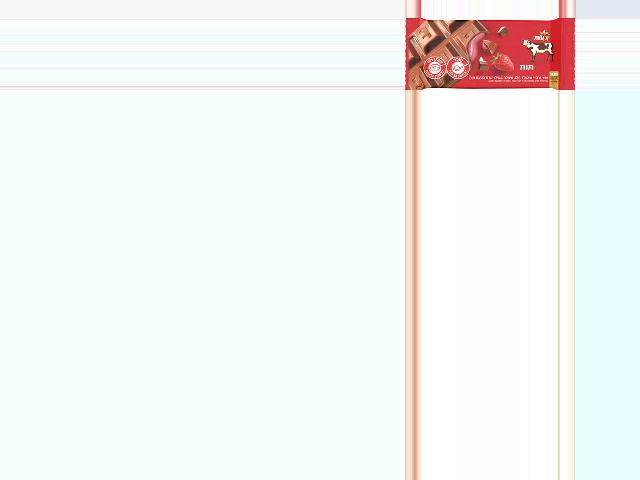chocolate: (405, 18, 576, 90)
